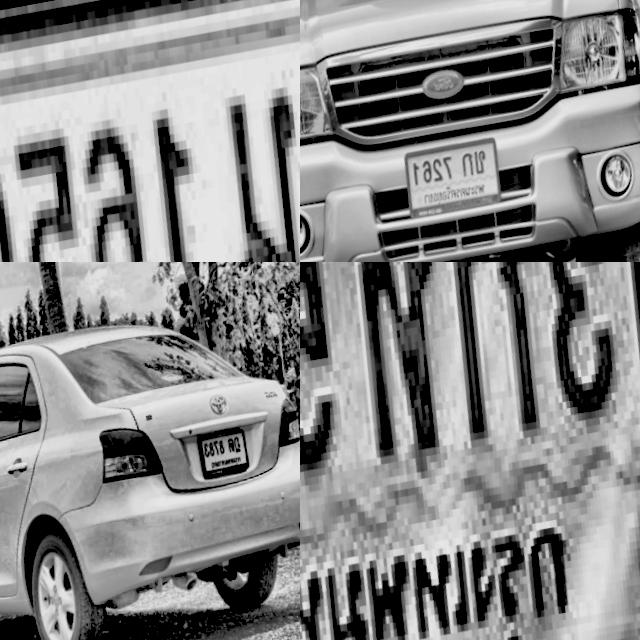license-plate: (300, 262, 640, 640), (0, 0, 300, 262), (406, 134, 516, 225), (201, 424, 261, 480)
